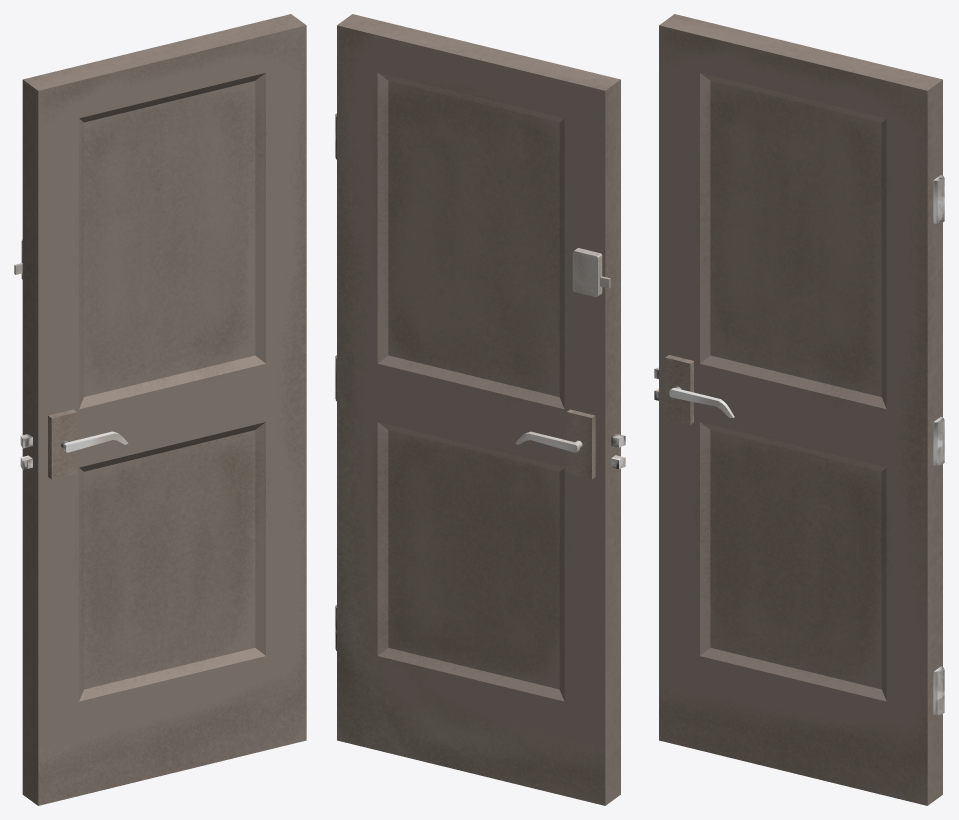
File: Door.fbx
The picture shows the model from 3 angles, left to right: view 1: azimuth 30°, elevation 25°; view 2: azimuth 150°, elevation 25°; view 3: azimuth 330°, elevation 25°; orthographic projection.
Parts seen in each view (by area): view 1: pCube9; view 2: pCube9; view 3: pCube9.
Boxes of the visible parts, x1,y1,x2,y2 form: pCube9: [14, 14, 306, 805]; pCube9: [335, 14, 625, 805]; pCube9: [654, 14, 944, 805].
Size of the model in its own units: 175 by 420 by 35.18.
